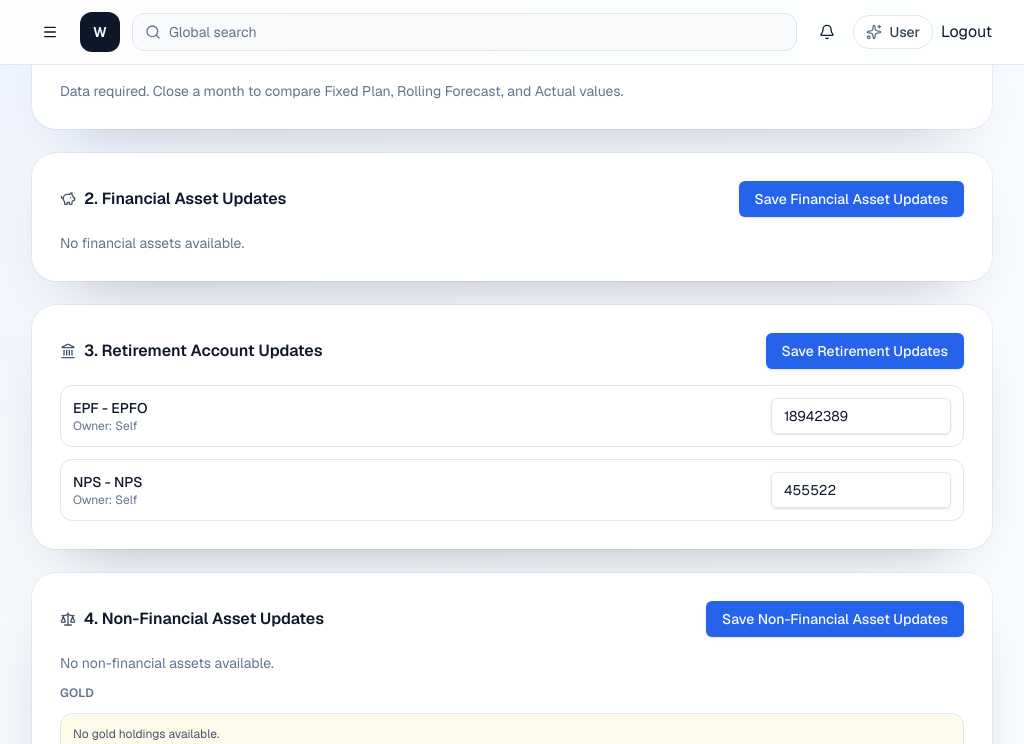
Test case: MonthlyReviewPage › syncs retirement save to month-end draft rows and refreshed breakdown values
(page scrolled)
expect the heading "3. Retirement Account Updates" is shown: met, box [84, 339, 322, 363]
Replace the text in the number field named "Retirement balance EPF EPFO" with "18886844" at [861, 416], box [771, 398, 951, 434]
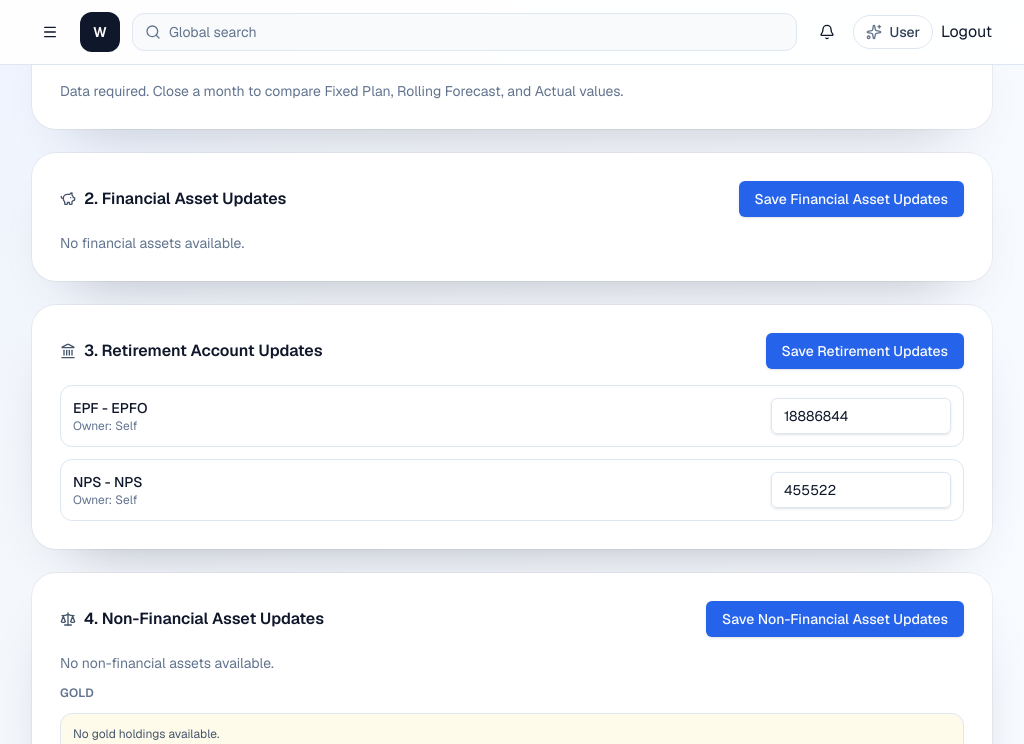
Replace the text in the number field named "Retirement balance NPS NPS" with "525712" at [861, 490], box [771, 472, 951, 508]
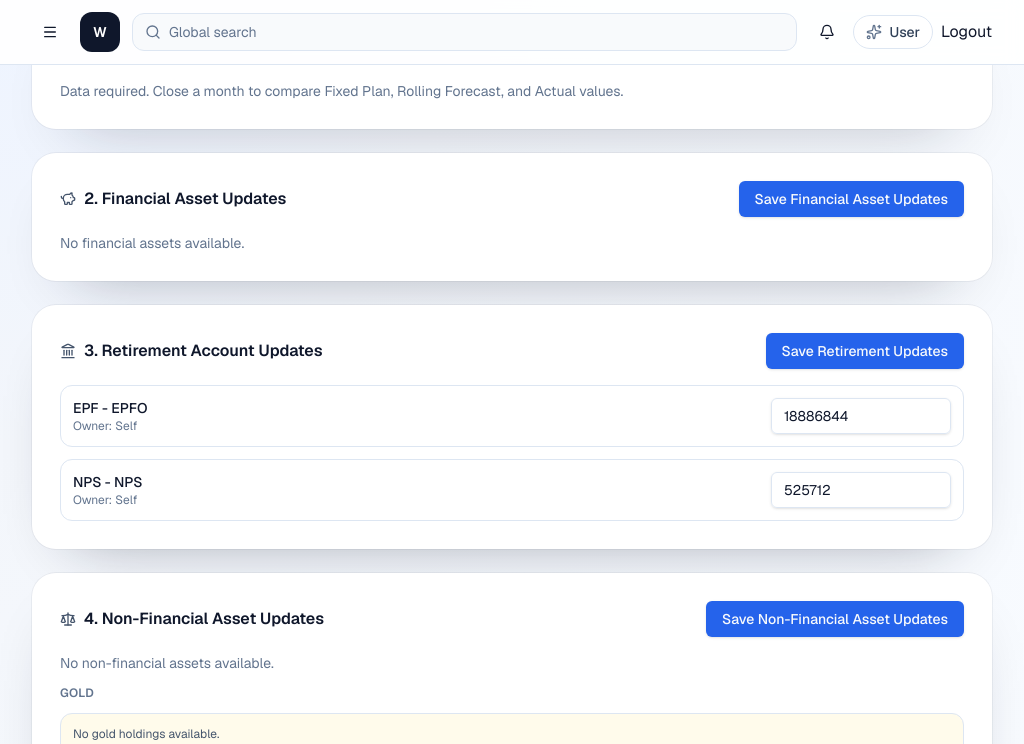
Click the button "Save Retirement Updates" at [865, 351], box [766, 333, 964, 369]
(page scrolled)
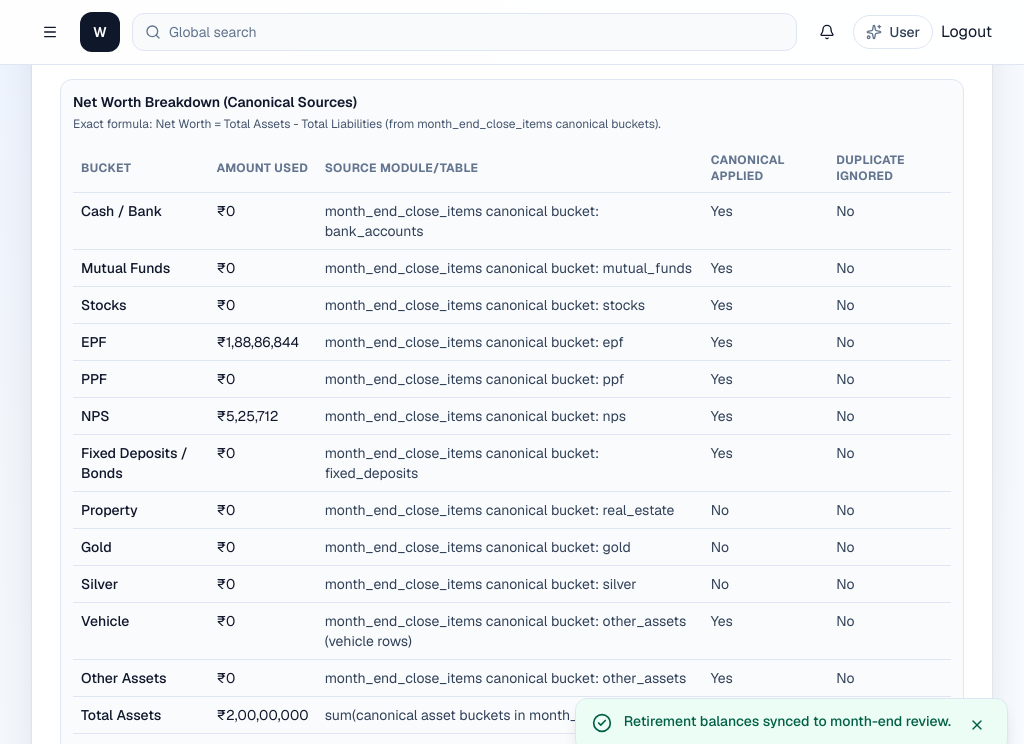
expect the text "Retirement balances synced to month-end review." is shown: met, box [624, 711, 951, 731]
expect the text "₹1,88,86,844" is shown: met, box [208, 324, 317, 360]
expect the text "₹5,25,712" is shown: met, box [208, 398, 317, 434]
